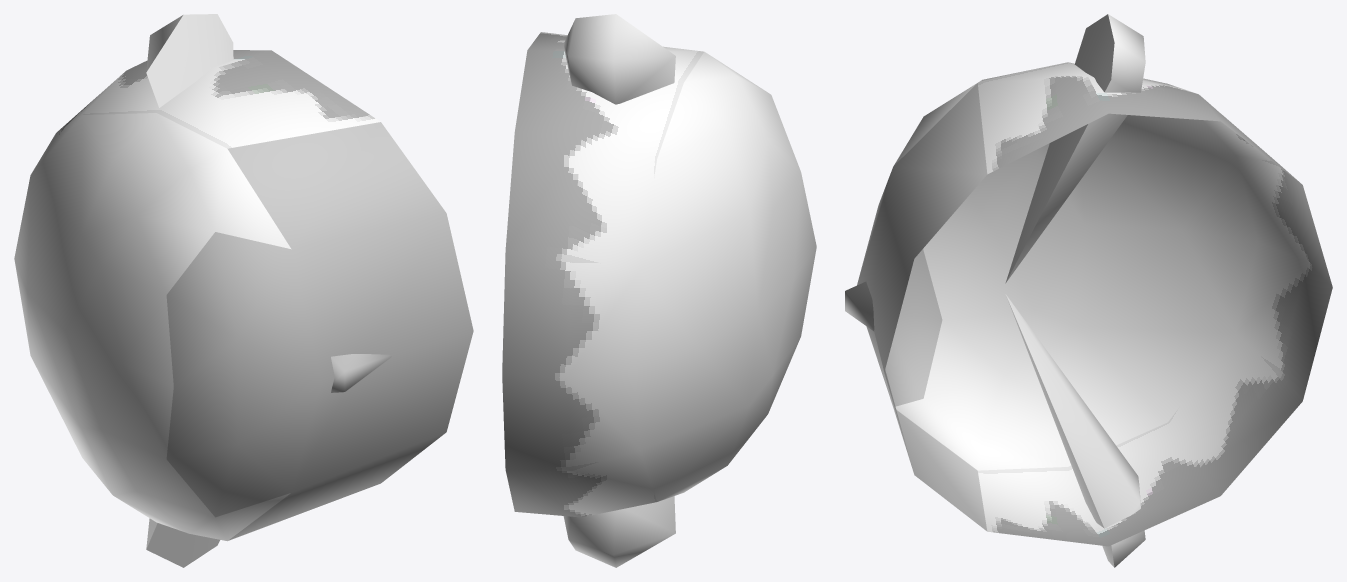
Rendered from boy07b.dae.
3 renders of one model, left to right at view 1: azimuth 30°, elevation 25°; view 2: azimuth 150°, elevation 25°; view 3: azimuth 270°, elevation 25°, orthographic.
Visible parts, largest first — view 1: vsn_mesh_0_, vsn_mesh_1_, vsn_mesh_2_; view 2: vsn_mesh_0_; view 3: vsn_mesh_0_, vsn_mesh_1_, vsn_mesh_2_.
Boxes of the visible parts, x1,y1,x2,y2 form: vsn_mesh_0_: [14, 14, 380, 567]; vsn_mesh_1_: [227, 122, 473, 540]; vsn_mesh_2_: [166, 232, 321, 517]; vsn_mesh_0_: [502, 14, 816, 567]; vsn_mesh_0_: [894, 14, 1332, 567]; vsn_mesh_1_: [845, 83, 987, 531]; vsn_mesh_2_: [857, 169, 942, 406].
Size of the model in its own units: 15.5 by 26.71 by 21.59.
Materials: 3 (1 with a texture image).
